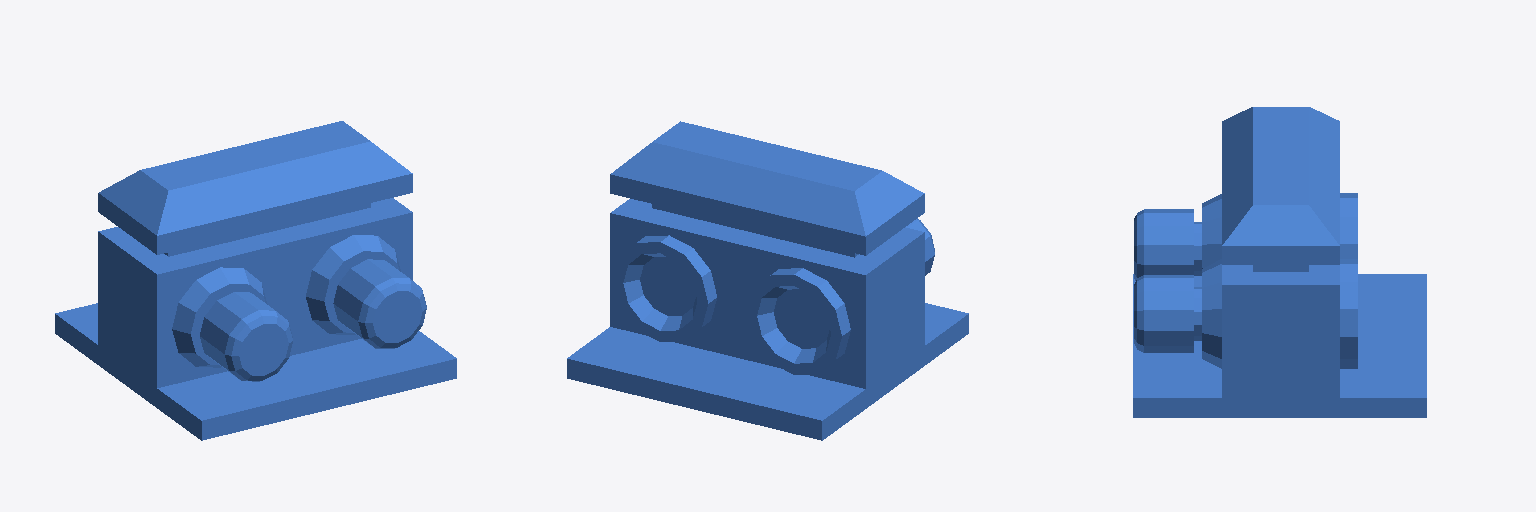
Rendered from Condicioner.obj.
The picture shows the model from 3 angles: view 1: azimuth 30°, elevation 25°; view 2: azimuth 150°, elevation 25°; view 3: azimuth 270°, elevation 25°; orthographic projection.
Parts seen in each view (by area): view 1: Condicioner; view 2: Condicioner; view 3: Condicioner.
Boxes of the visible parts, box(x1,y1,x2,y2) form: Condicioner: box(55, 121, 456, 440); Condicioner: box(567, 121, 968, 440); Condicioner: box(1133, 107, 1426, 417).
Bounding box in the file's own units: 20 × 14.95 × 19.87.